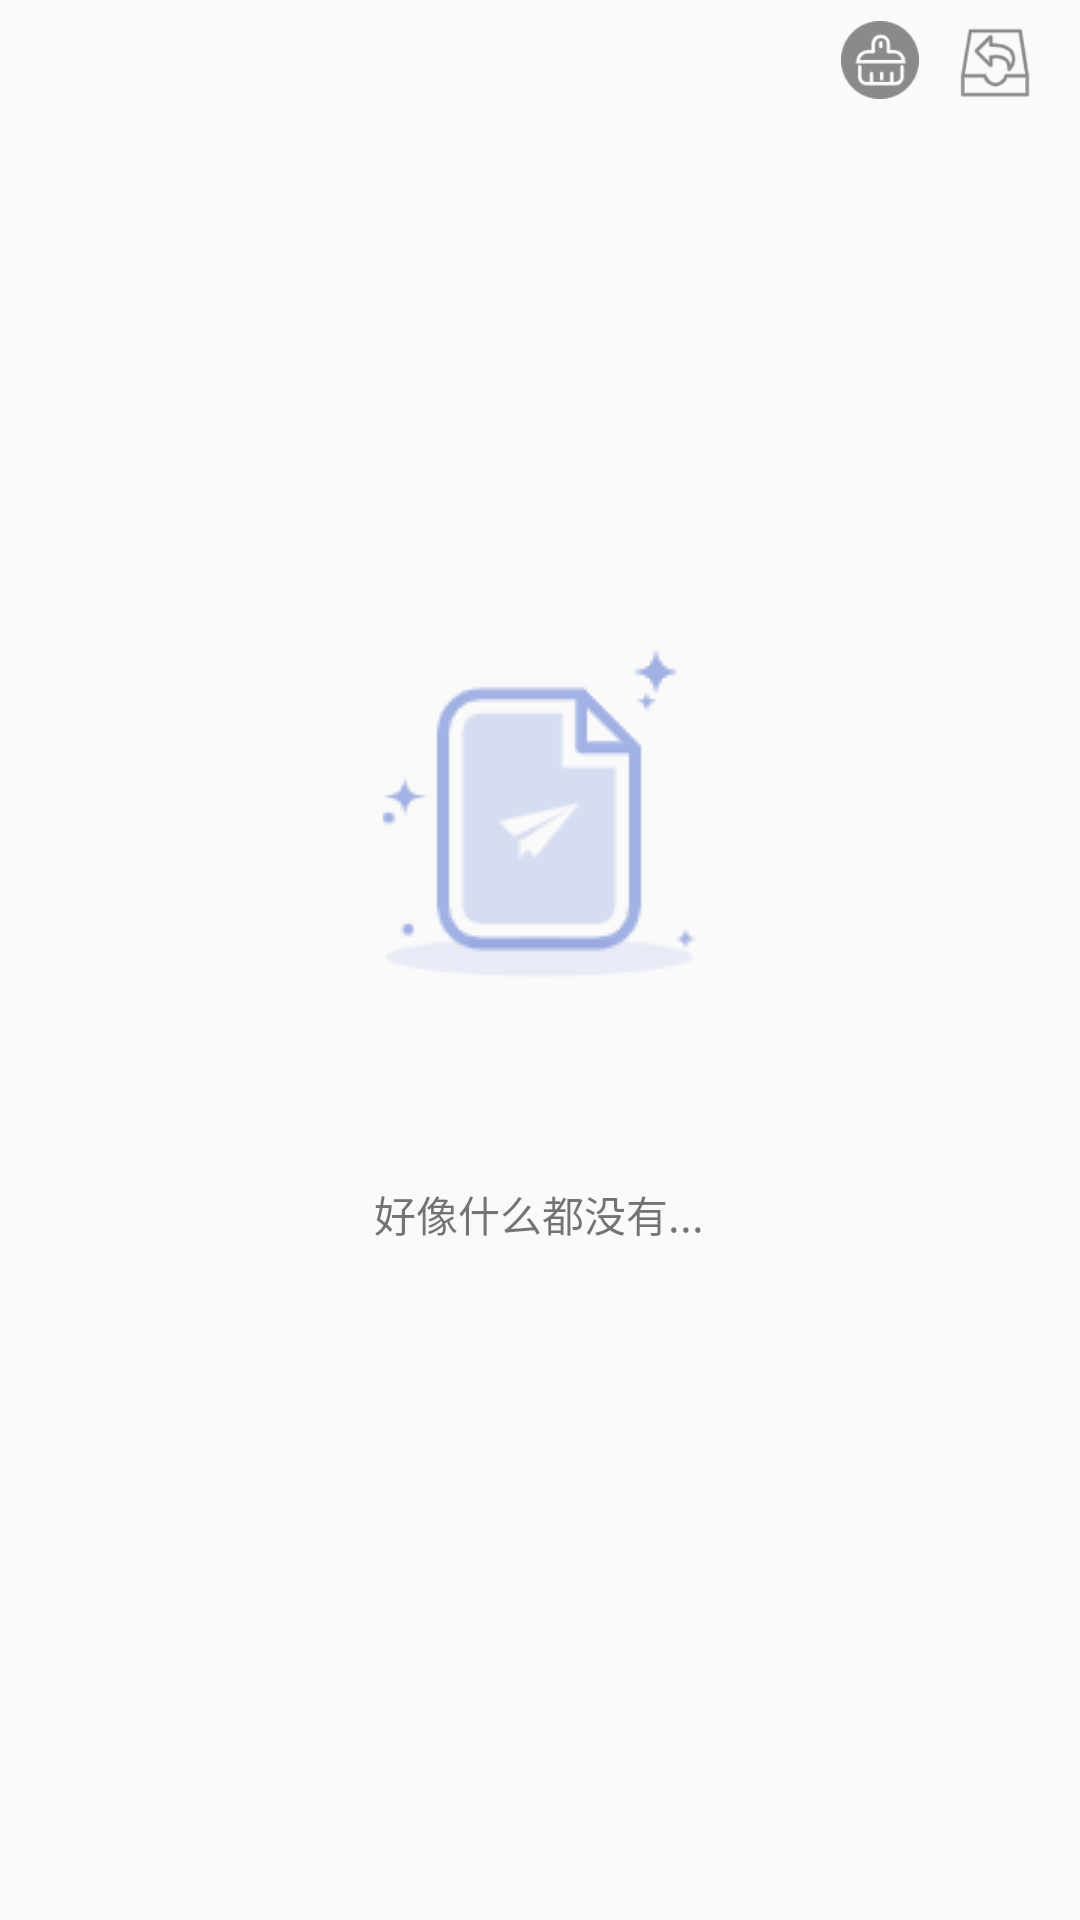

Point at icon controls on the screen. Image size 1080 × 1920, points as [x,y].
delete all: [880,60]
recover all: [995,63]
